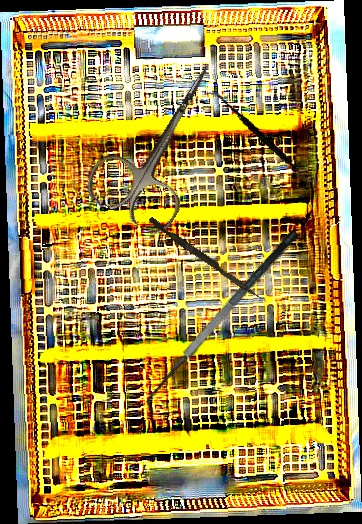Iris Scissors: (79, 42, 251, 240)
Pusher: (146, 216, 265, 301)
Spatula Surgical: (134, 227, 315, 417), (191, 90, 332, 186)
